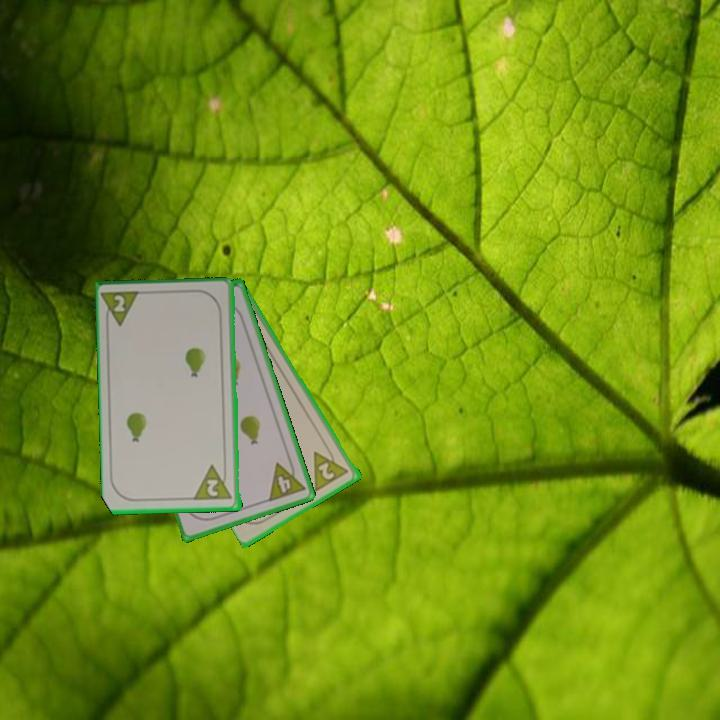2p: (310, 441, 352, 494), (100, 288, 145, 330), (192, 462, 235, 503)
4p: (265, 455, 308, 504)
